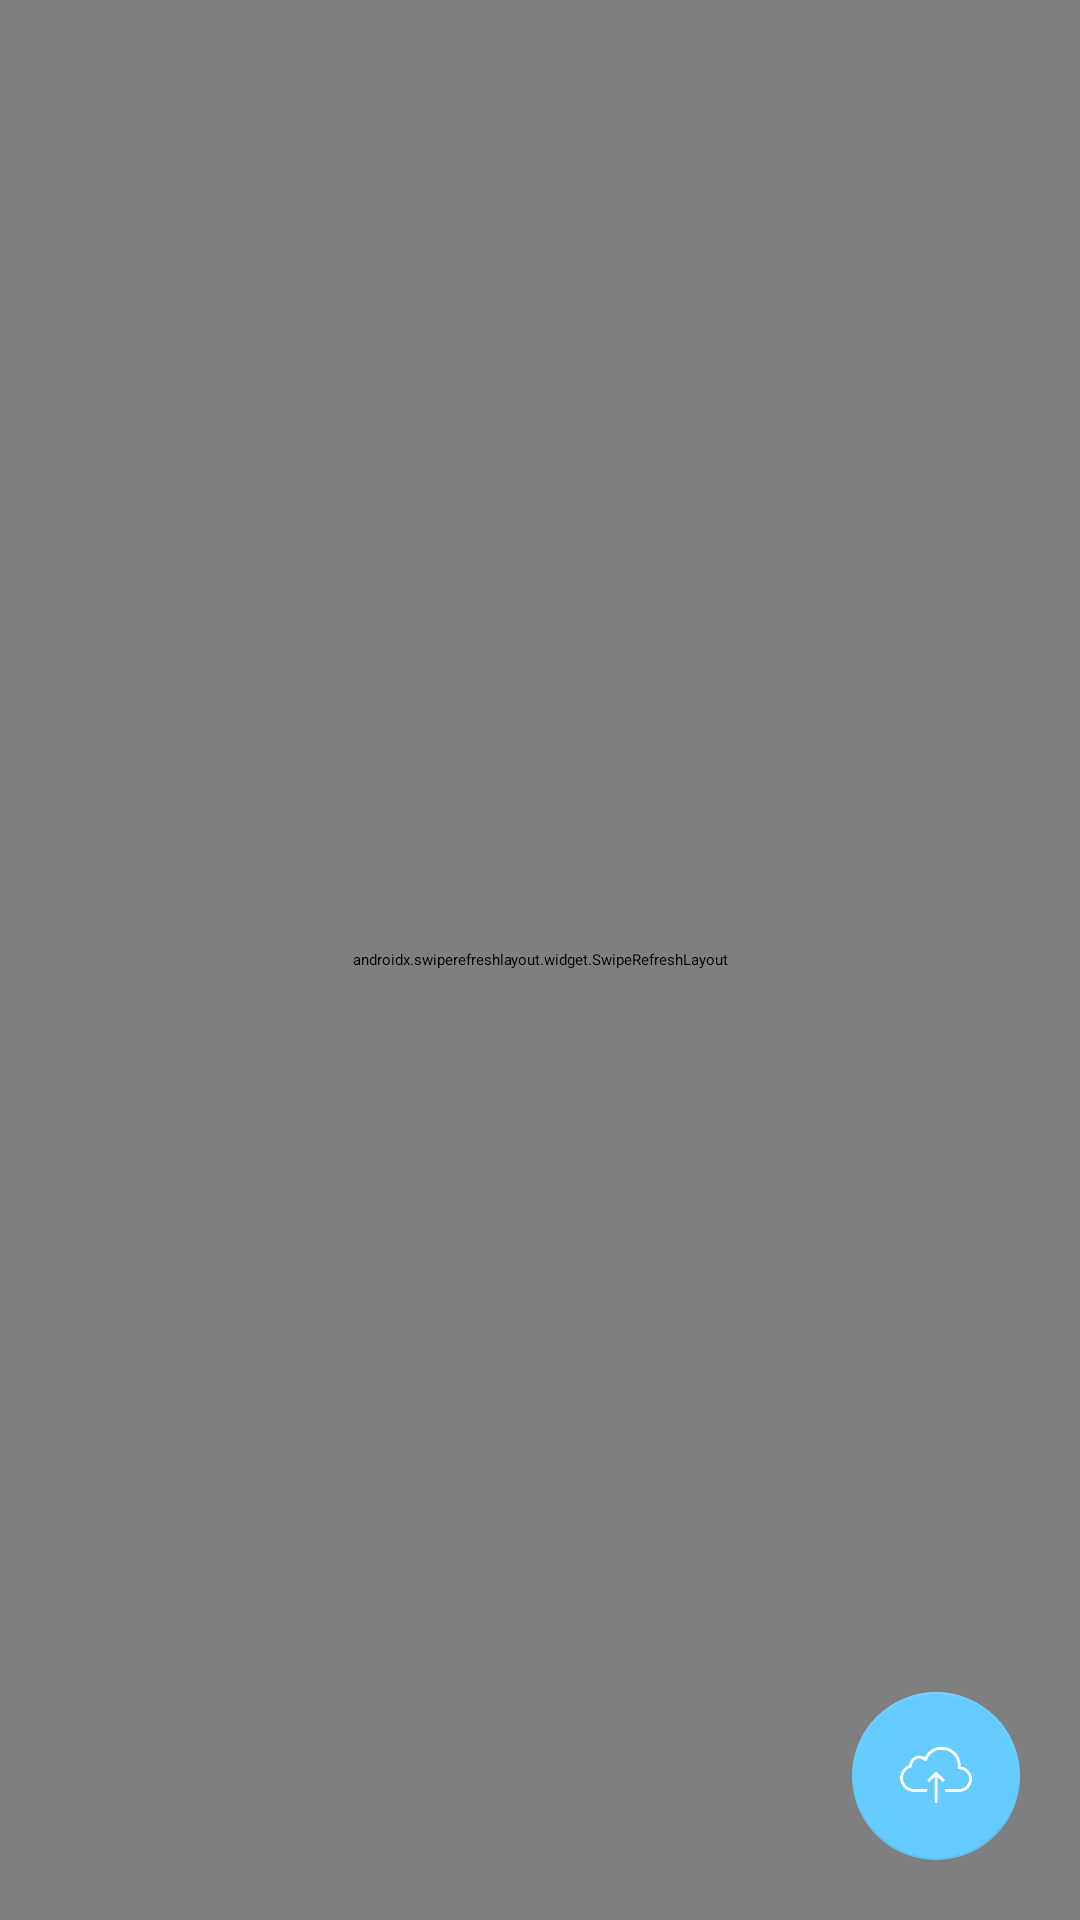

Screen size 1080w x 1920h. Icon name, then its center in pixels as (x=x, y=y):
upload: (x=936, y=1776)
